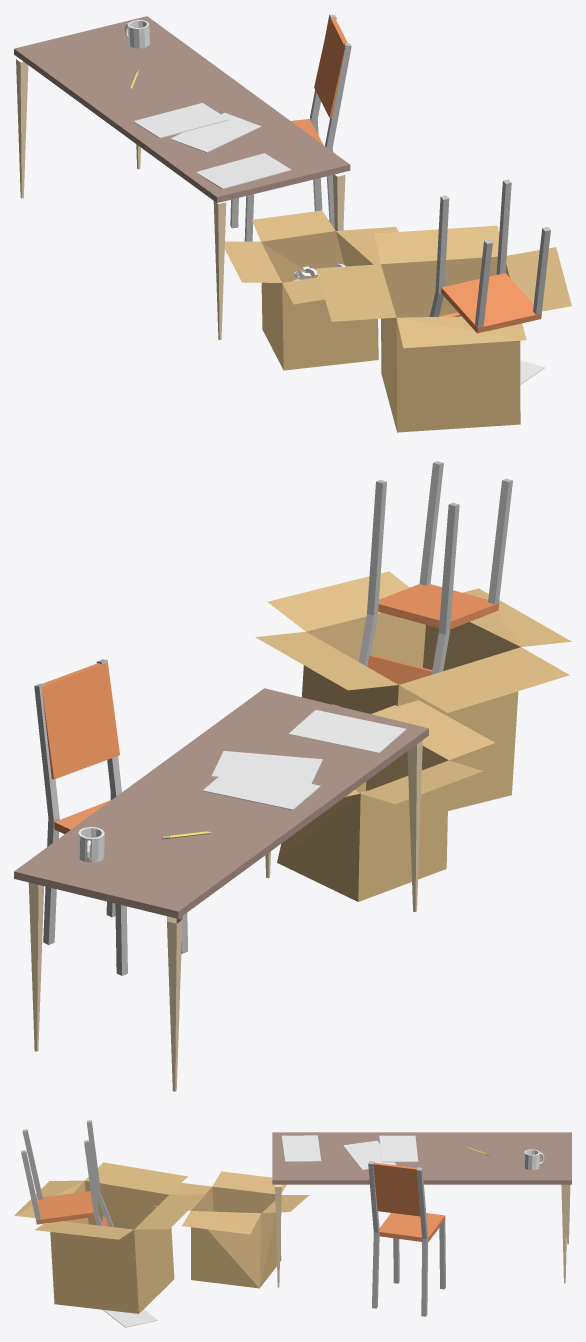
File: Desk.glb
3 renders of one model, top to bottom at view 1: azimuth 30°, elevation 25°; view 2: azimuth 150°, elevation 25°; view 3: azimuth 270°, elevation 25°, orthographic. The views are drawn at different scales.
Parts seen in each view (by area): view 1: Node; view 2: Node; view 3: Node.
Boxes of the visible parts, x1=… form: Node: x1=14, y1=14, x2=571, y2=432; Node: x1=14, y1=461, x2=571, y2=1091; Node: x1=14, y1=1120, x2=571, y2=1327.
Bounding box in the file's own units: 0.2477 × 0.2193 × 0.6632.
